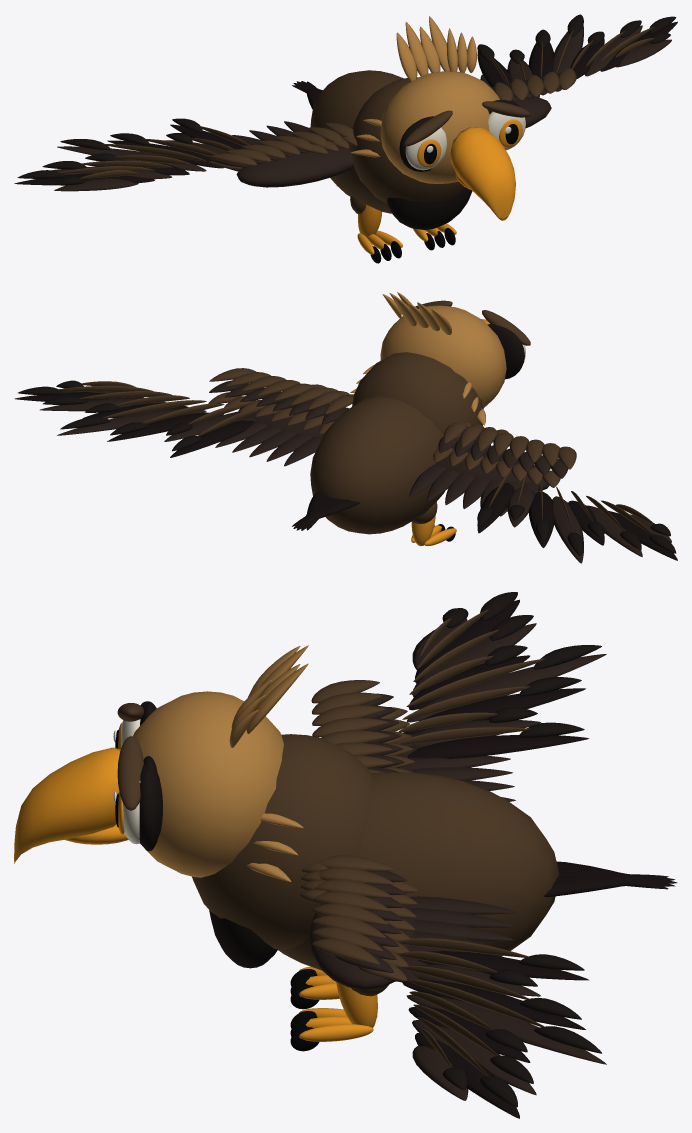
Rendered from Eagle_05_Bandit.fbx.
The picture shows the model from 3 angles, top to bottom: view 1: azimuth 30°, elevation 25°; view 2: azimuth 150°, elevation 25°; view 3: azimuth 270°, elevation 25°; orthographic projection. The views are drawn at different scales.
Parts seen in each view (by area): view 1: Body, LeftWingMesh, RightWingMesh; view 2: Body, RightWingMesh, LeftWingMesh; view 3: Body, RightWingMesh, LeftWingMesh.
Part boxes in pixels (x1,y1,x2,y2): Body: [292, 16, 530, 263]; LeftWingMesh: [14, 118, 357, 191]; RightWingMesh: [477, 14, 677, 127]; Body: [292, 292, 530, 546]; RightWingMesh: [14, 368, 353, 466]; LeftWingMesh: [409, 421, 677, 563]; Body: [14, 645, 677, 1051]; RightWingMesh: [300, 855, 606, 1118]; LeftWingMesh: [311, 592, 606, 801].
Size of the model in its own units: 544 by 182 by 294.
